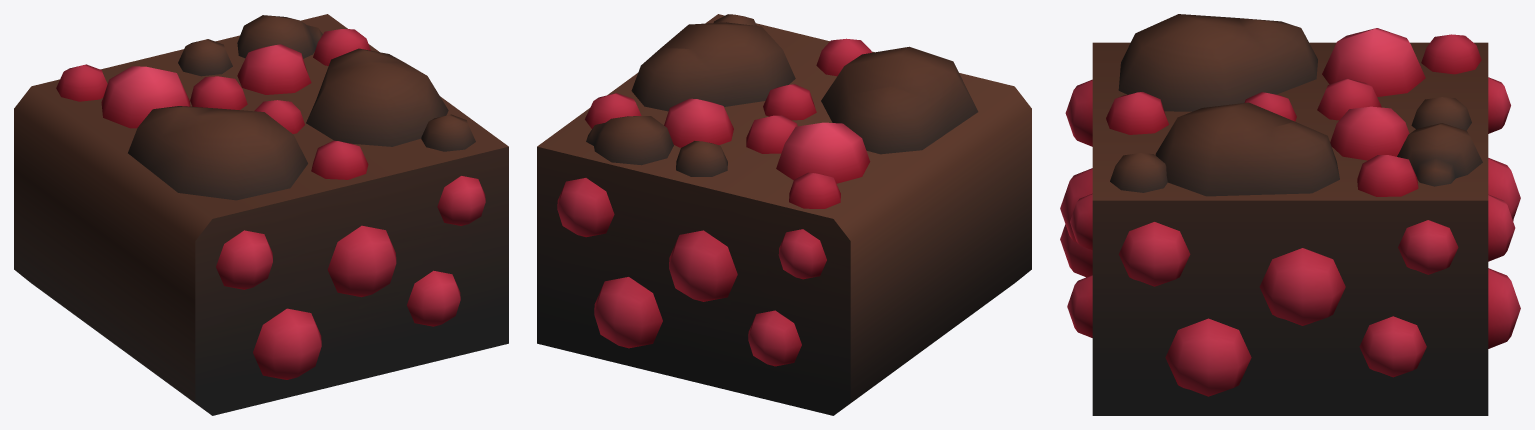
File: m_SheetCake02_Slice02.fbx
3 renders of one model, left to right at view 1: azimuth 30°, elevation 25°; view 2: azimuth 150°, elevation 25°; view 3: azimuth 270°, elevation 25°, orthographic. The views are drawn at different scales.
Parts seen in each view (by area): view 1: m_SheetCake02_Slice02; view 2: m_SheetCake02_Slice02; view 3: m_SheetCake02_Slice02.
Part boxes in pixels (x1=…): m_SheetCake02_Slice02: x1=14, y1=14, x2=508, y2=415; m_SheetCake02_Slice02: x1=537, y1=14, x2=1031, y2=415; m_SheetCake02_Slice02: x1=1060, y1=14, x2=1520, y2=415.
Size of the model in its own units: 10.82 by 7.57 by 11.65.
